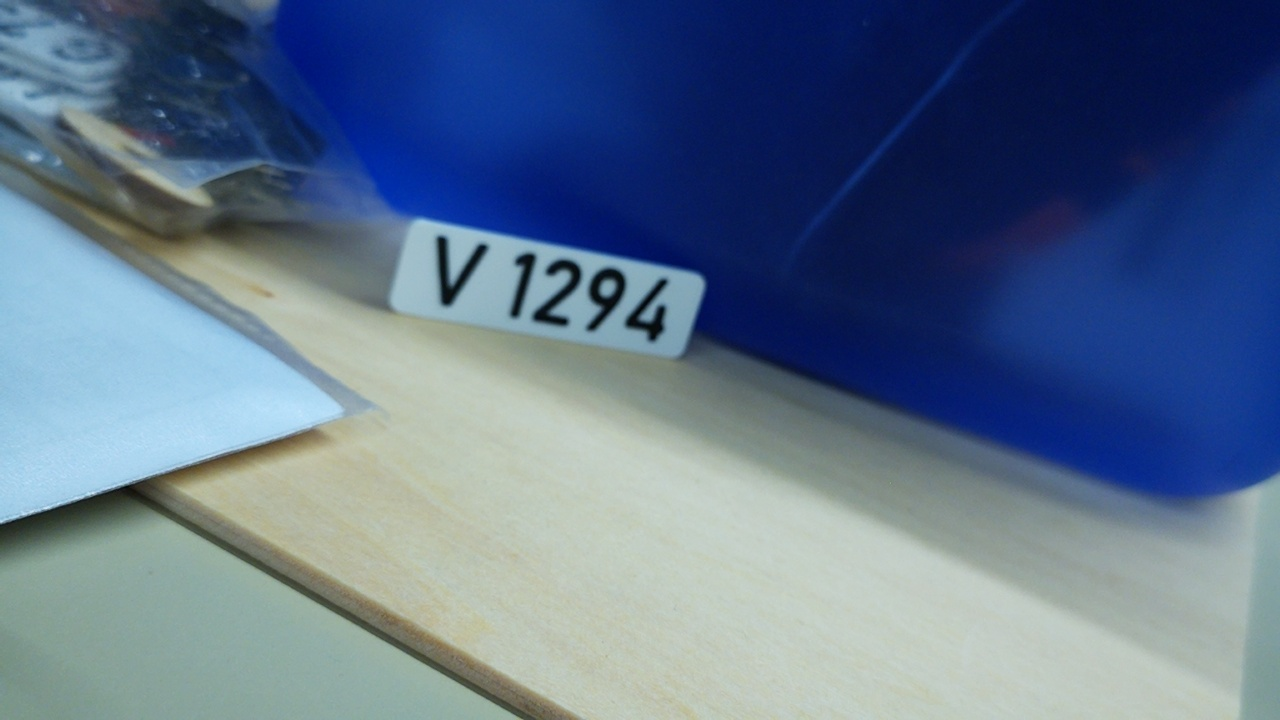license_plate: (384, 214, 709, 363)
